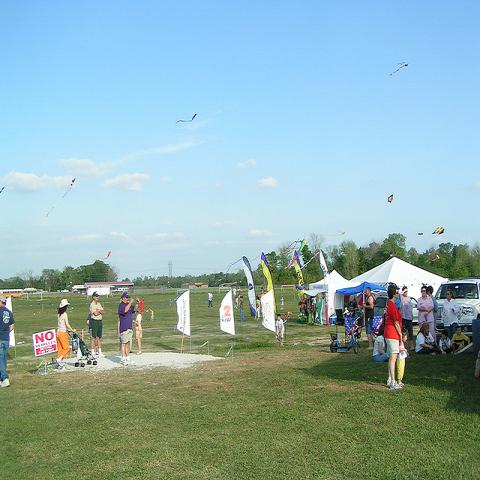bus: (3, 289, 24, 299)
car: (436, 275, 479, 338), (375, 295, 419, 322)
